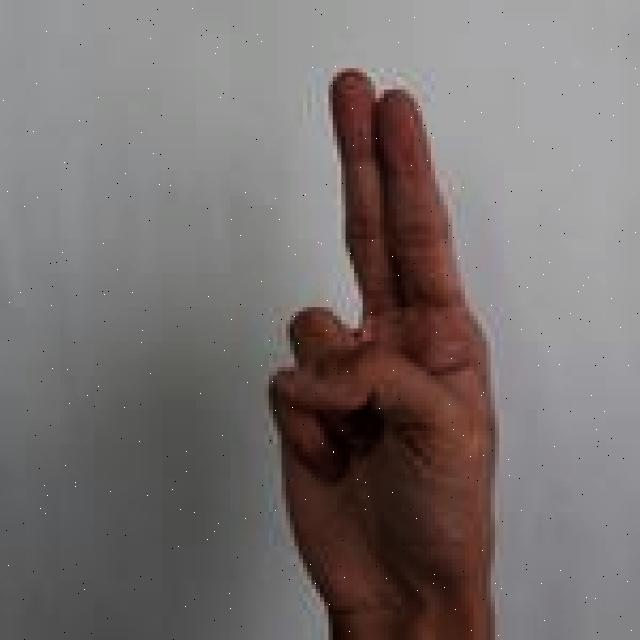U: (264, 65, 510, 640)
